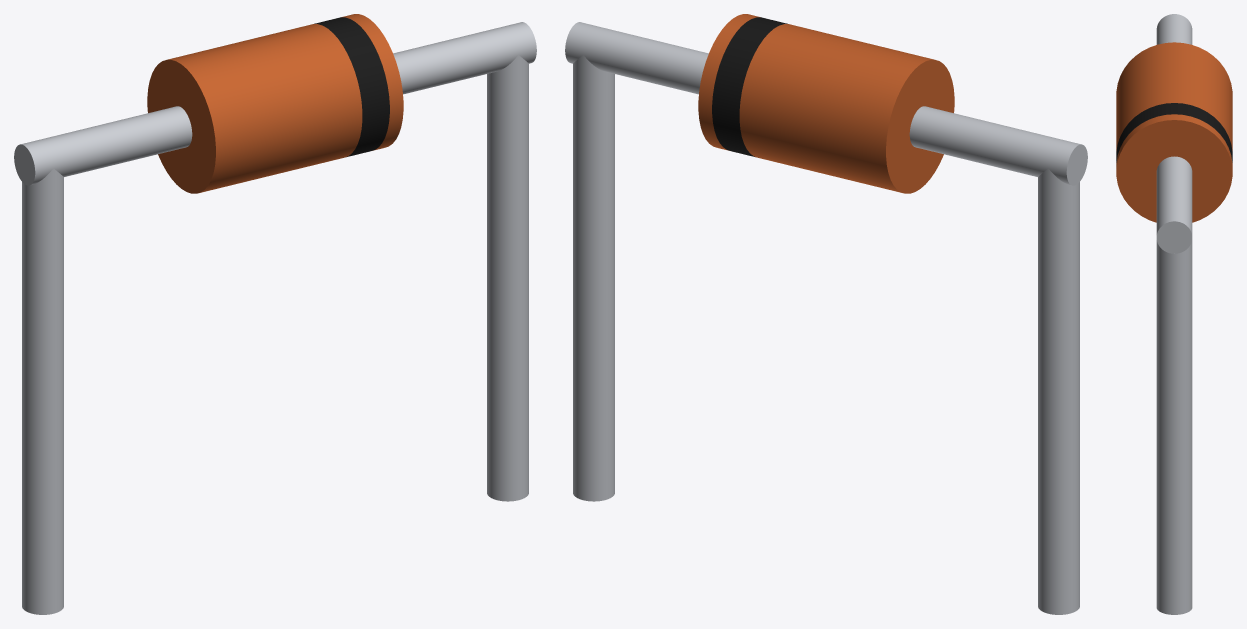
The model's file is zener-1n4733a.glb.
3 renders of one model, left to right at view 1: azimuth 30°, elevation 25°; view 2: azimuth 150°, elevation 25°; view 3: azimuth 270°, elevation 25°, orthographic. The views are drawn at different scales.
Visible parts, largest first — view 1: object 1, lead-1, lead-2, object 2; view 2: object 1, lead-1, lead-2, object 2; view 3: lead-2, object 1, object 2, lead-1.
Boxes of the visible parts, <box> form: object 1: <box>147,14,403,193</box>; lead-1: <box>14,106,192,614</box>; lead-2: <box>393,22,536,501</box>; object 2: <box>314,17,389,157</box>; object 1: <box>698,14,954,193</box>; lead-1: <box>909,106,1087,614</box>; lead-2: <box>565,22,708,501</box>; object 2: <box>712,17,787,157</box>; lead-2: <box>1156,156,1192,614</box>; object 1: <box>1116,42,1232,222</box>; object 2: <box>1116,103,1232,162</box>; lead-1: <box>1156,14,1192,44</box>.
Size of the model in its own units: 0.011 by 0.0106 by 0.00259.
